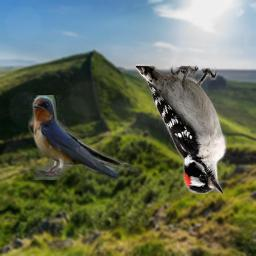Swallow: (28, 95, 138, 180)
Woodpecker: (136, 64, 227, 194)
